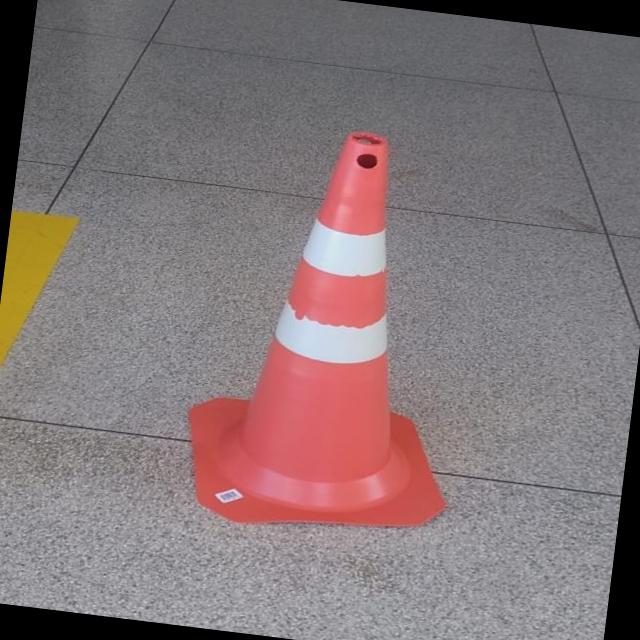Cone: (141, 91, 510, 552)
